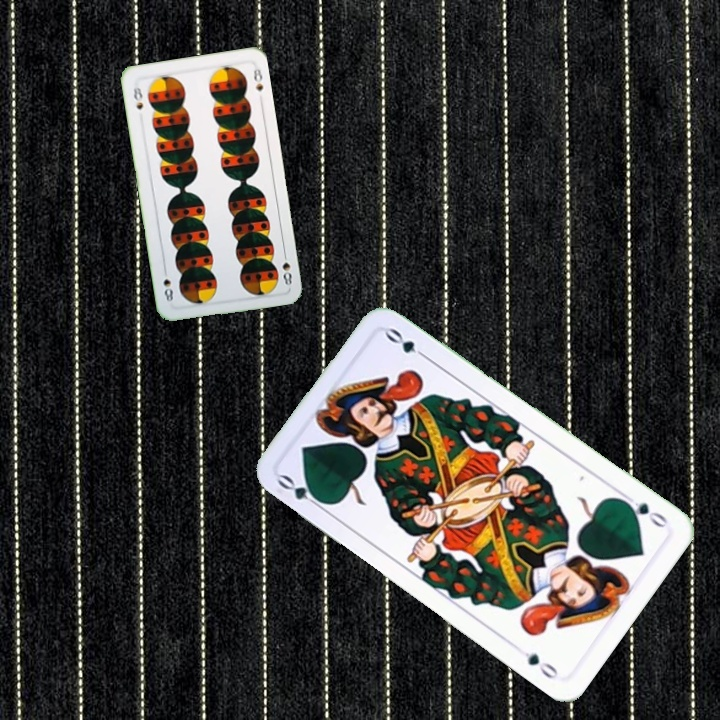GO: (273, 470, 329, 513), (617, 489, 671, 531)
S8: (278, 247, 294, 288), (129, 83, 146, 112)
